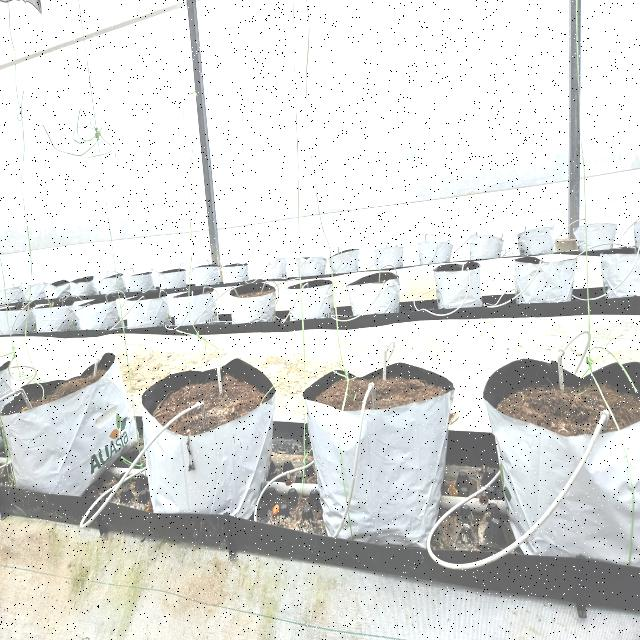Soilbag: (485, 361, 640, 570), (305, 367, 454, 551), (137, 361, 276, 522), (0, 354, 141, 501)
